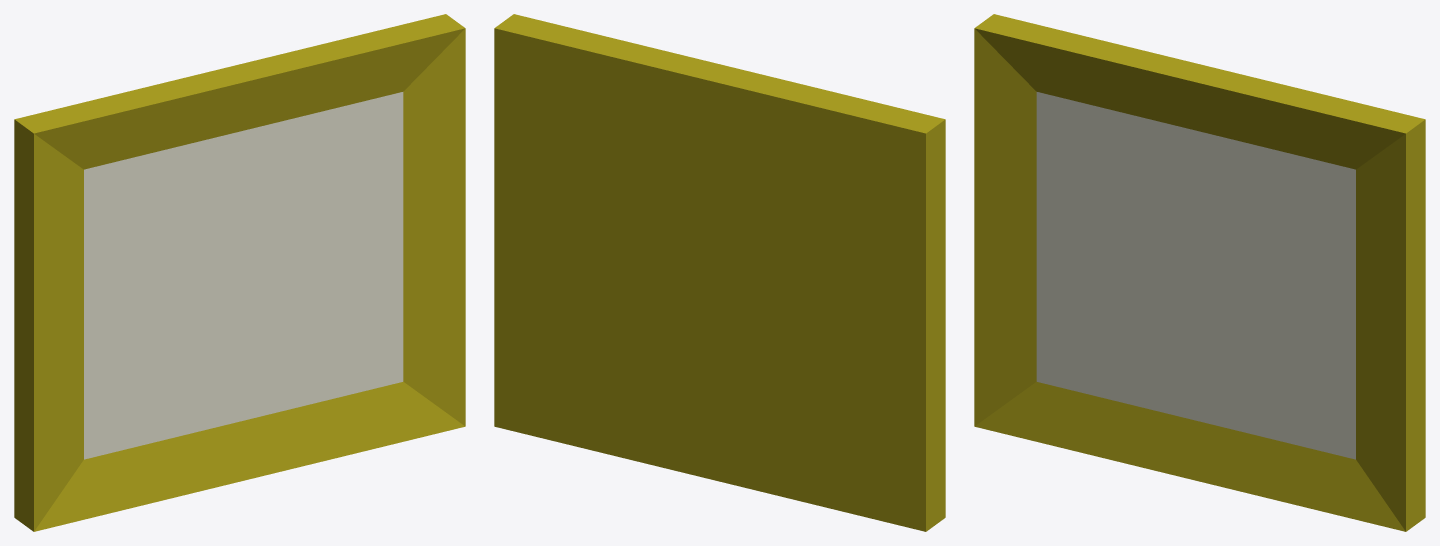
File: Picture Frame (Small).FBX
3 views of the same model, side by side, from view 1: azimuth 30°, elevation 25°; view 2: azimuth 150°, elevation 25°; view 3: azimuth 330°, elevation 25° (orthographic).
Parts seen in each view (by area): view 1: Picture Frame 02; view 2: Picture Frame 02; view 3: Picture Frame 02.
Part boxes in pixels (x1,y1,x2,y2): Picture Frame 02: (14, 14, 465, 531); Picture Frame 02: (494, 14, 945, 531); Picture Frame 02: (974, 14, 1425, 531).
Size of the model in its own units: 2.4 by 2.12 by 0.188.
